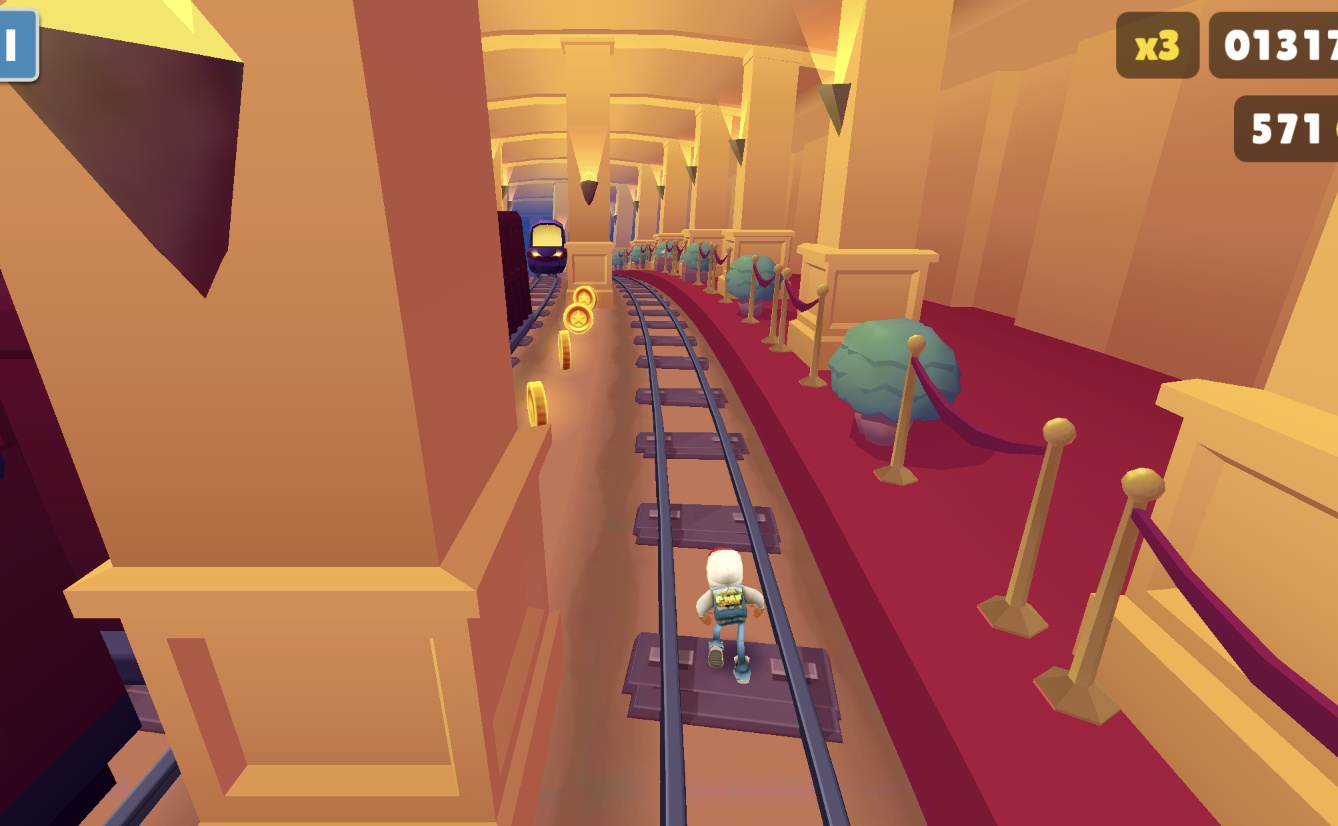pillar: (57, 0, 534, 826), (564, 92, 617, 327)
train: (0, 272, 132, 826), (519, 215, 567, 284)
